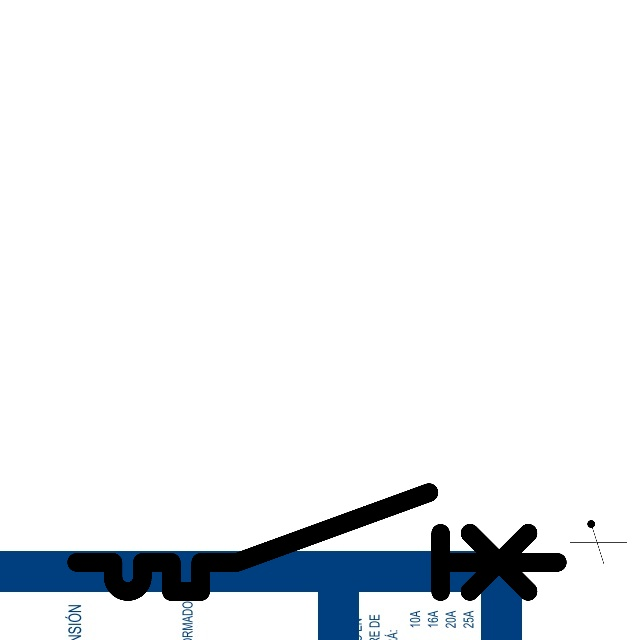interruptor_termomagnetico: (64, 480, 570, 604)
